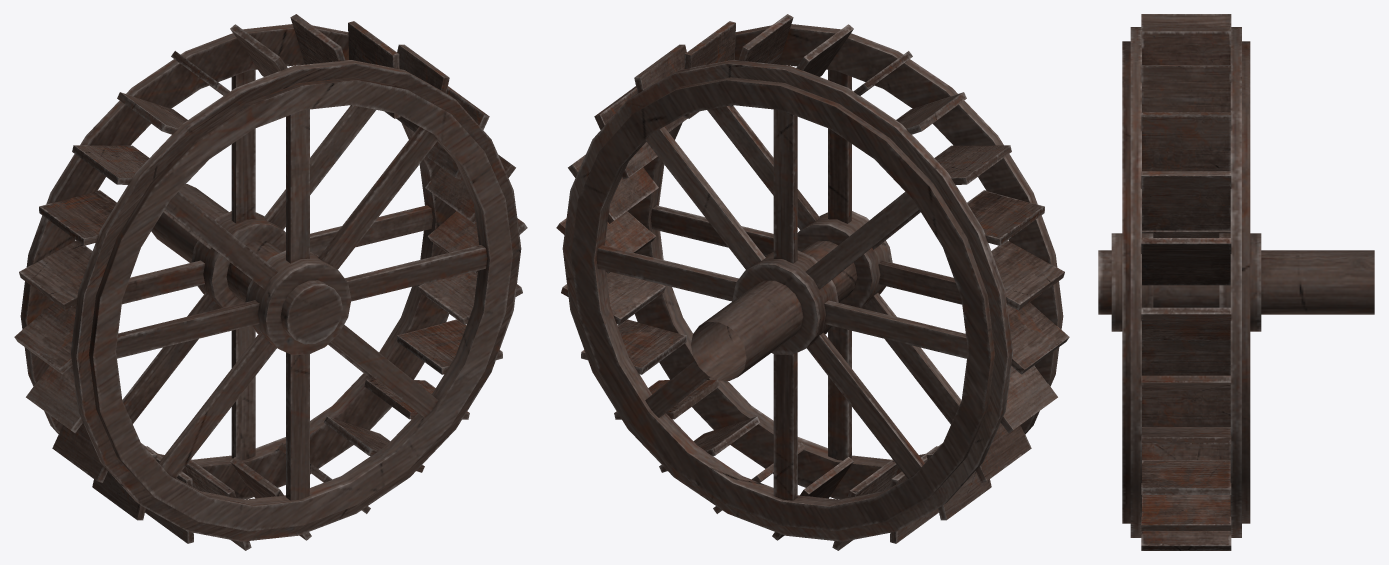
Rendered from water_wheel.glb.
3 renders of one model, left to right at view 1: azimuth 30°, elevation 25°; view 2: azimuth 150°, elevation 25°; view 3: azimuth 270°, elevation 25°, orthographic.
Parts seen in each view (by area): view 1: base_low, flaps_low, mechanism_low; view 2: base_low, flaps_low, mechanism_low; view 3: flaps_low, base_low, mechanism_low.
Part boxes in pixels (<box>): base_low: <box>20,24,521,541</box>; flaps_low: <box>14,14,527,550</box>; mechanism_low: <box>151,184,342,344</box>; base_low: <box>562,24,1063,541</box>; flaps_low: <box>556,14,1069,550</box>; mechanism_low: <box>691,241,857,380</box>; flaps_low: <box>1141,14,1231,550</box>; base_low: <box>1111,27,1261,537</box>; mechanism_low: <box>1098,250,1374,314</box>.
Bounding box in the file's own units: 7.51 × 7.51 × 3.84.
1 material, 1 textured.
